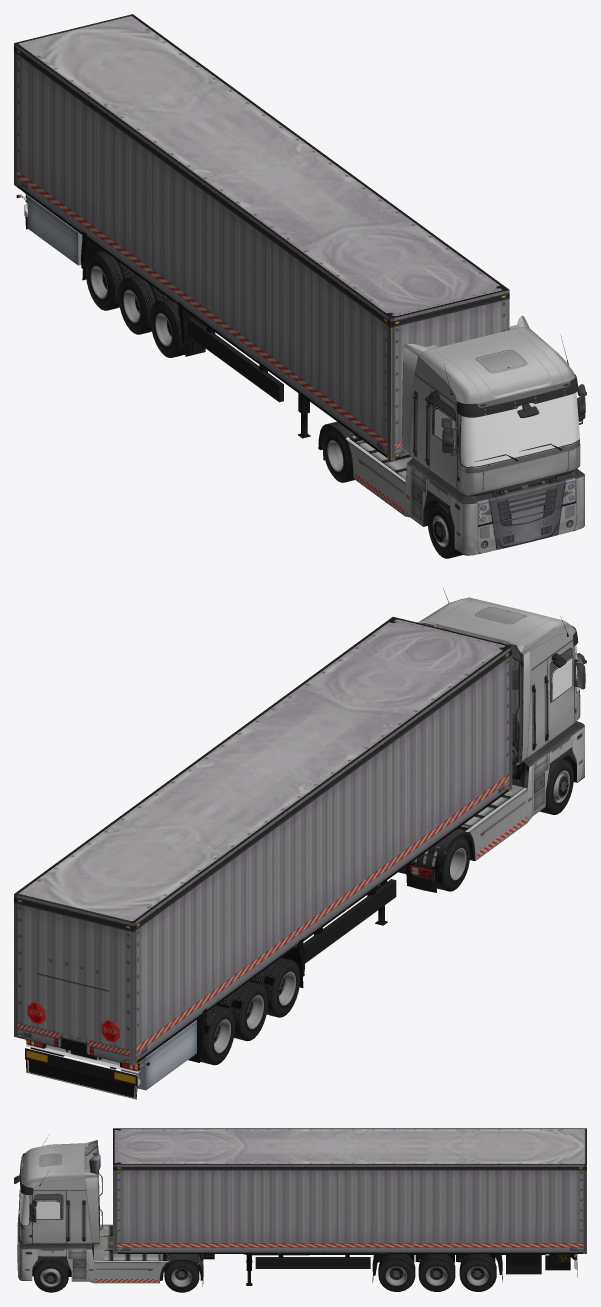
File: low_poly_truck.glb
3 renders of one model, top to bottom at view 1: azimuth 30°, elevation 25°; view 2: azimuth 150°, elevation 25°; view 3: azimuth 270°, elevation 25°, orthographic. The views are drawn at different scales.
Visible parts, largest first — view 1: model_81, Truck, model_97.195, model_97.193, RR3, RR2, RR1, FR, RR; view 2: model_81, Truck, RR2, RR1, RR3, FR, RR; view 3: model_81, Truck, RL1, RL2, RL3, FL, RL, model_97.196.
Part boxes in pixels (x1,y1,x2,y2): model_81: (14, 14, 509, 460); Truck: (318, 316, 586, 555); model_97.195: (465, 405, 525, 466); model_97.193: (524, 392, 579, 454); RR3: (86, 251, 134, 310); RR2: (118, 275, 166, 334); RR1: (150, 298, 185, 357); FR: (427, 503, 462, 558); RR: (323, 428, 354, 482); model_81: (14, 617, 512, 1099); Truck: (398, 588, 586, 892); RR2: (219, 981, 268, 1041); RR1: (251, 957, 300, 1017); RR3: (200, 1005, 235, 1065); FR: (540, 759, 573, 814); RR: (436, 837, 469, 891); model_81: (113, 1128, 586, 1285); Truck: (14, 1134, 214, 1286); RL1: (378, 1254, 415, 1291); RL2: (418, 1254, 455, 1291); RL3: (459, 1254, 496, 1291); FL: (33, 1259, 68, 1292); RL: (164, 1261, 199, 1292); model_97.196: (35, 1201, 59, 1218).
Size of the model in its own units: 3.62 by 4.87 by 19.85.
5 materials, 4 textured.
